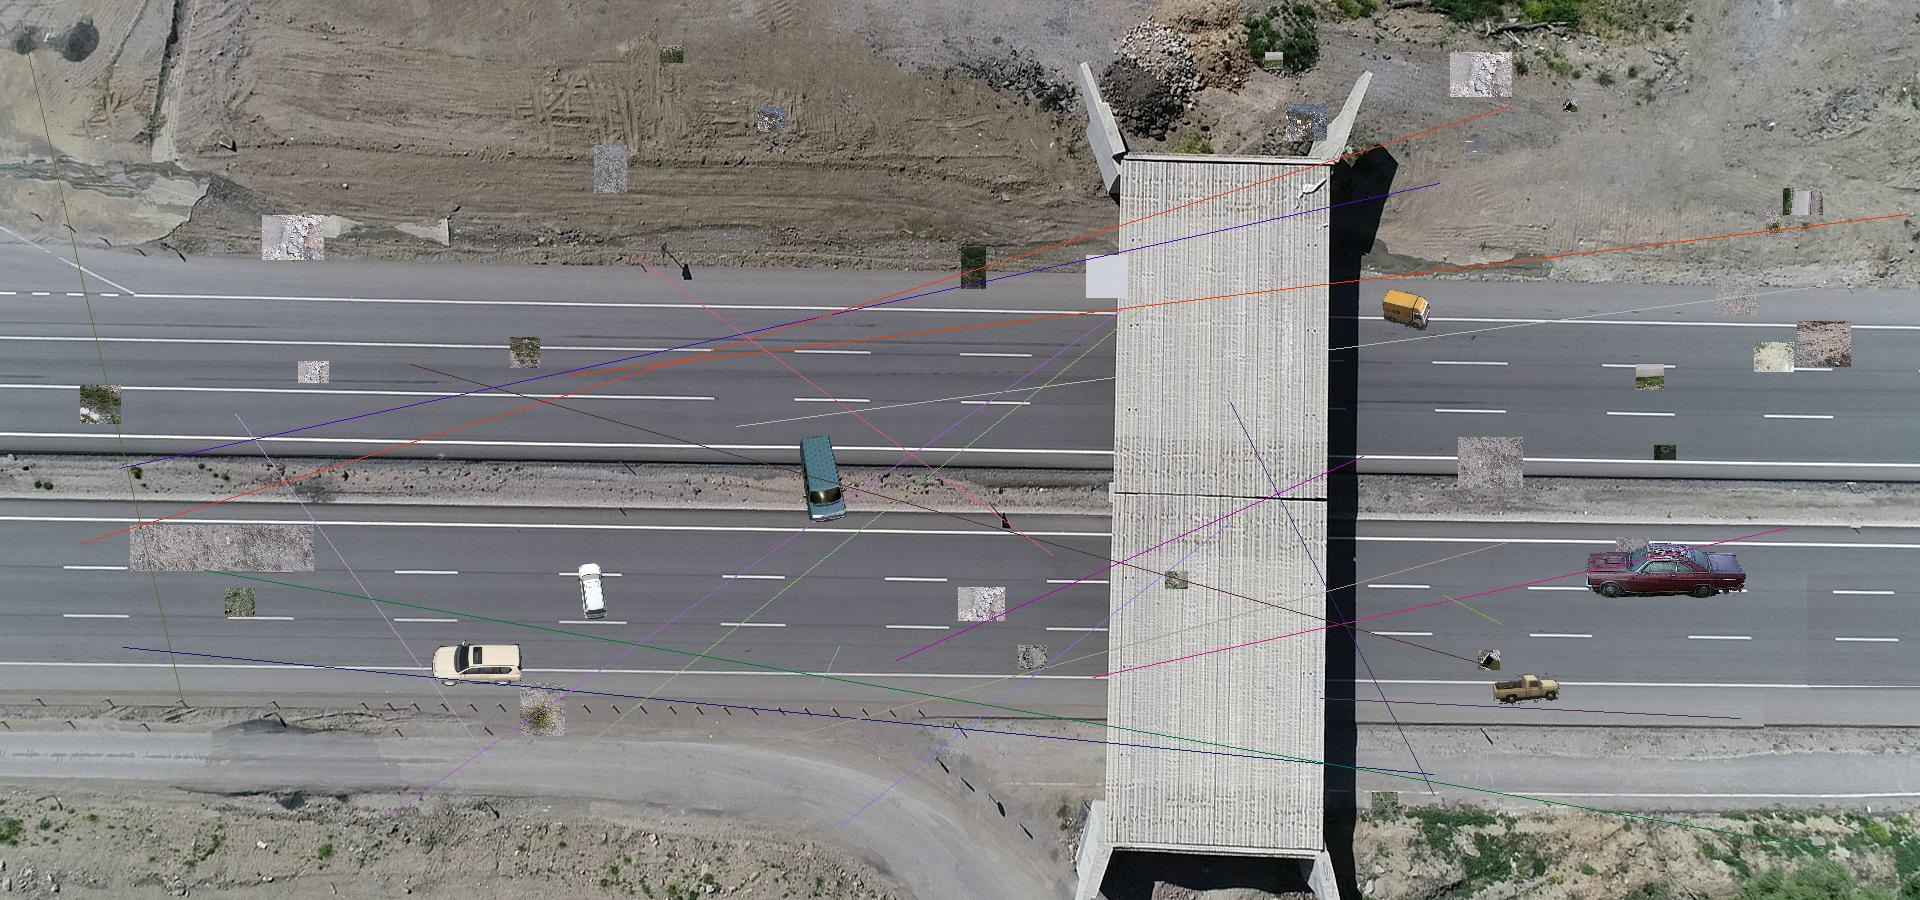arac: (1583, 542, 1749, 602), (427, 640, 527, 686), (798, 435, 847, 522), (1493, 673, 1560, 707), (1381, 289, 1431, 331), (578, 563, 609, 621)
